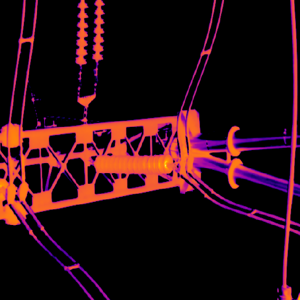insulator: (93, 152, 174, 175), (75, 0, 88, 63), (92, 0, 103, 60)
